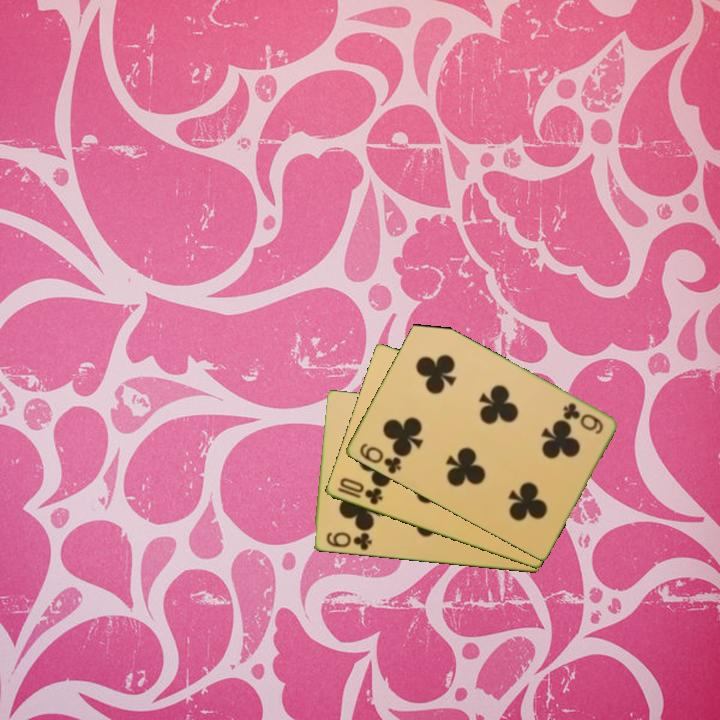10c: (334, 474, 386, 508)
6c: (559, 399, 606, 437), (356, 440, 404, 477), (322, 529, 374, 554)
